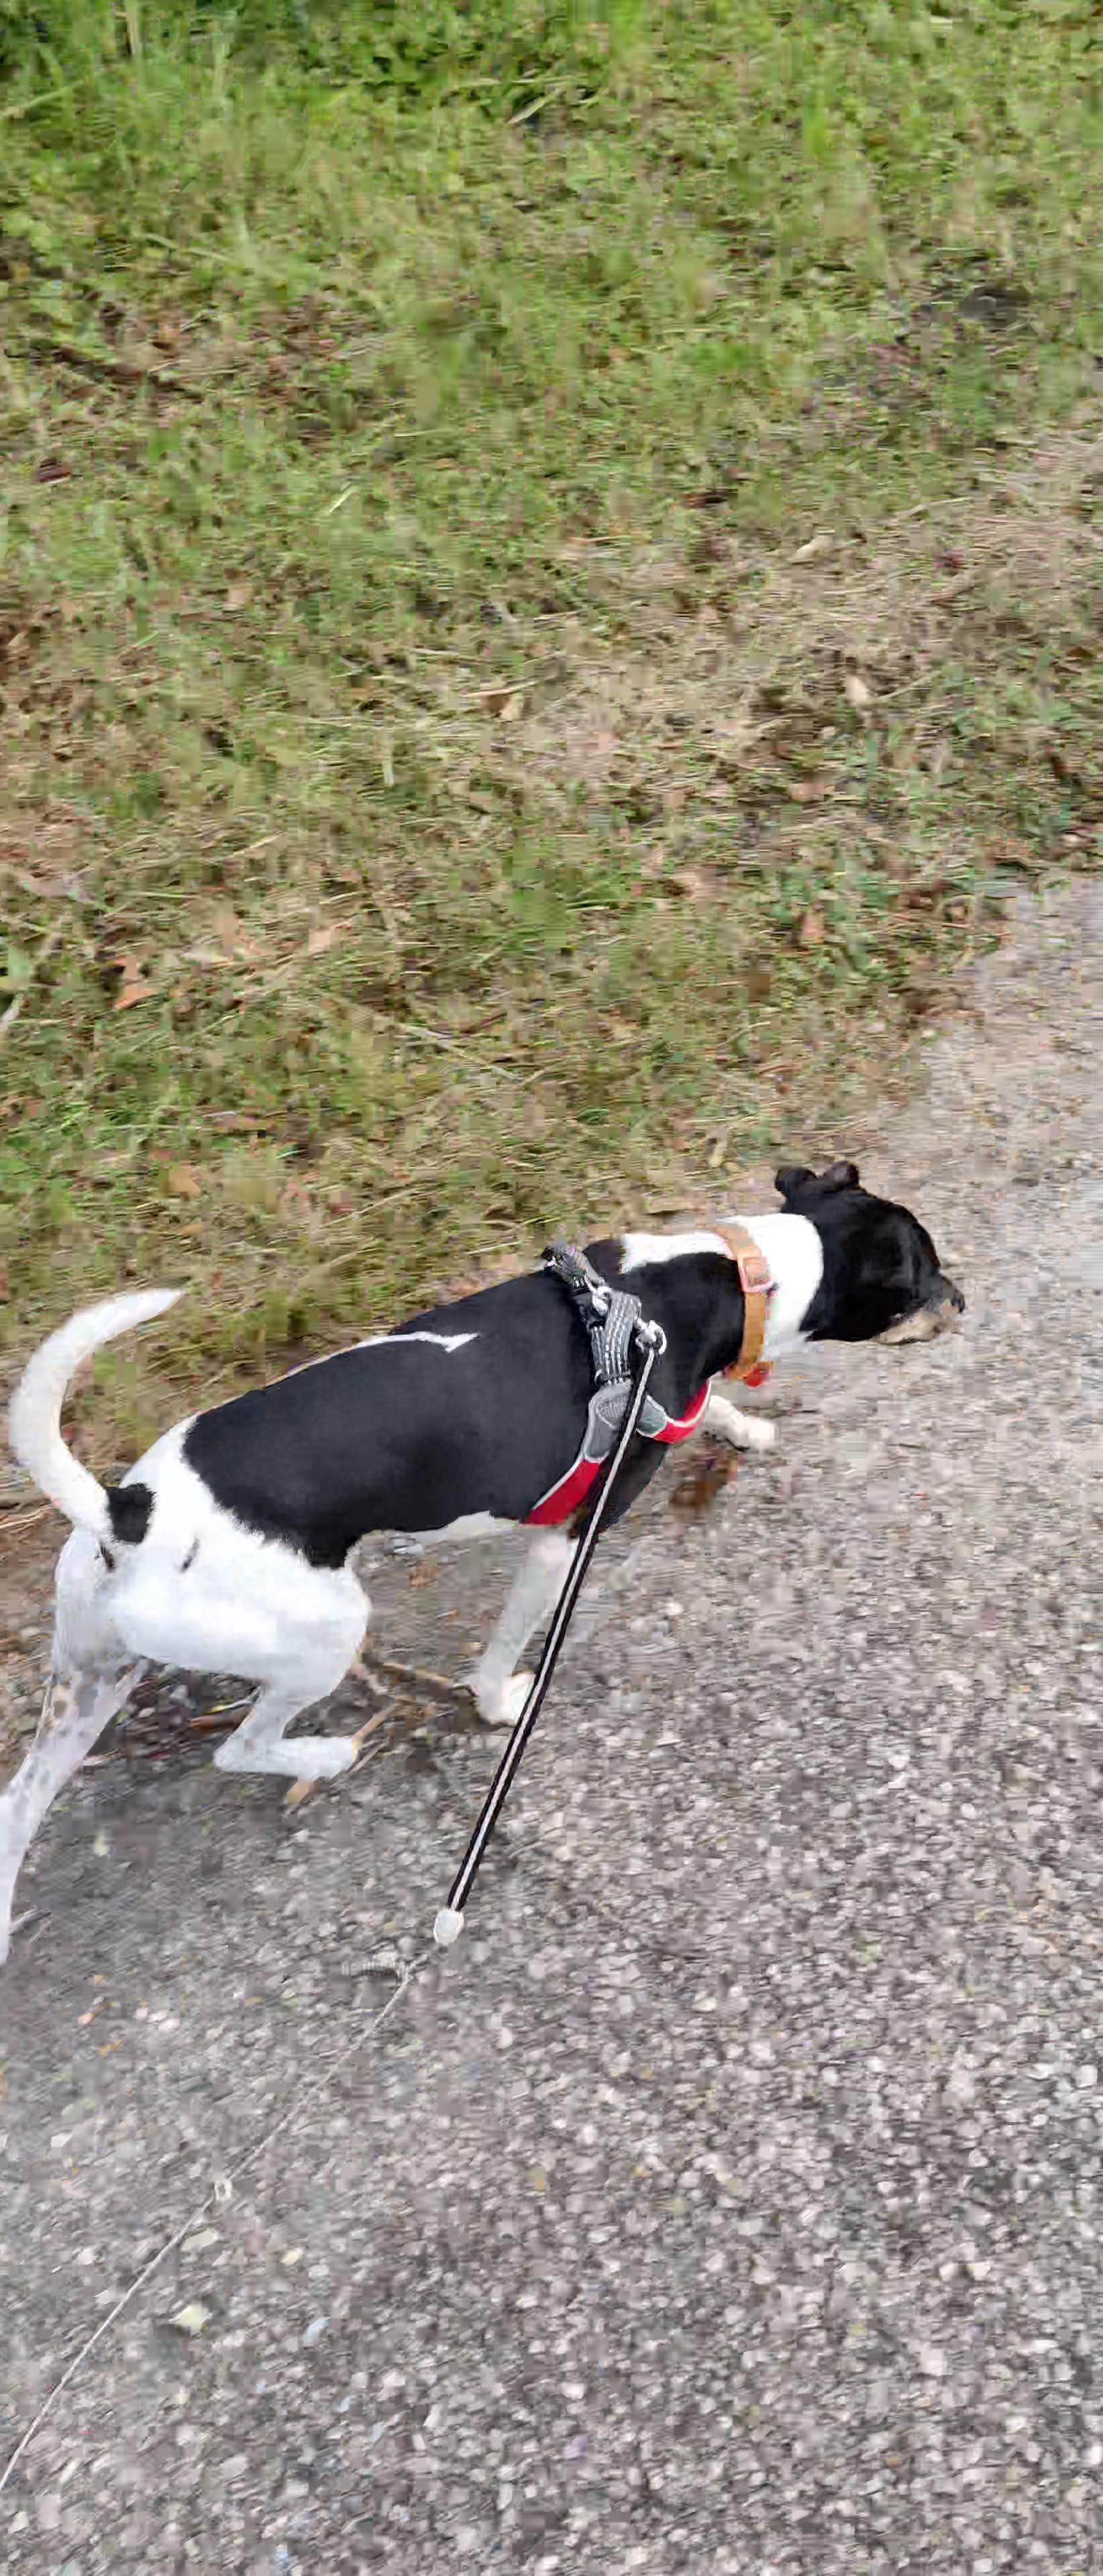Dog: (0, 1140, 981, 1970)
